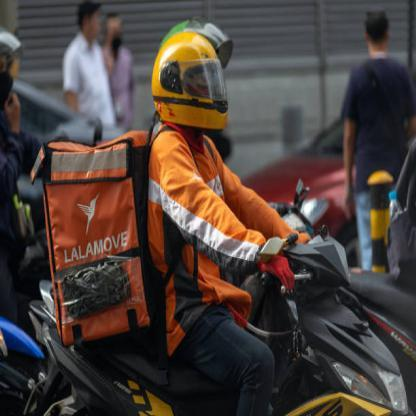Motorcycle: (46, 207, 413, 415)
